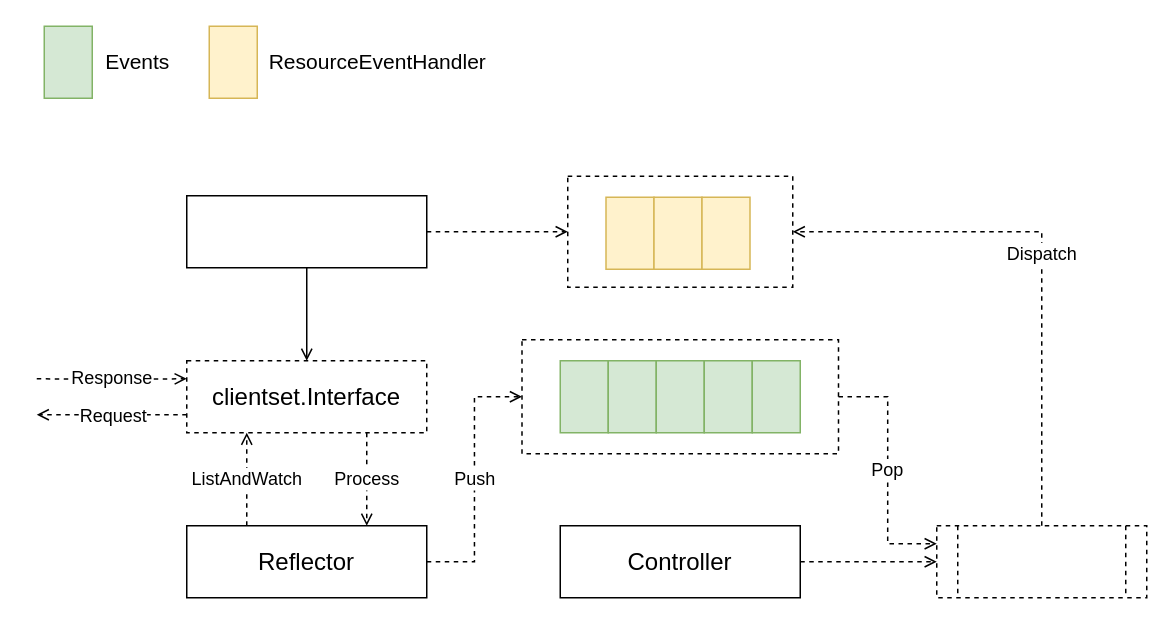
Some shapes in this 1173 by 624 pixel diagram are drawn without their labels. Each missing label, with the box of its shape:
#processLoop: (935, 524, 1147, 598)
sharedIndexInformer: (185, 194, 427, 268)
